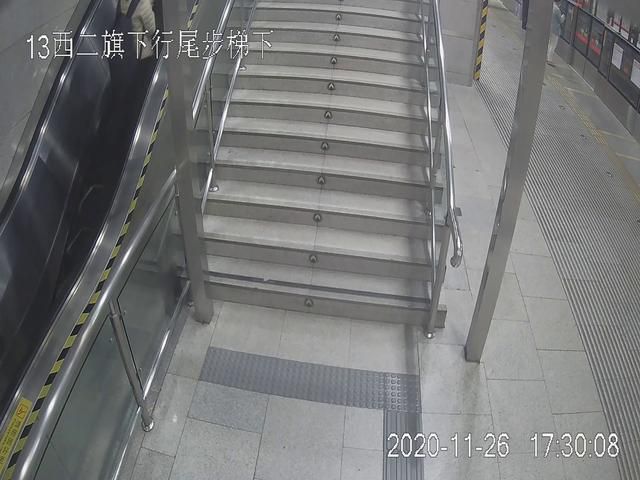person: (104, 1, 157, 114), (543, 1, 566, 62)
